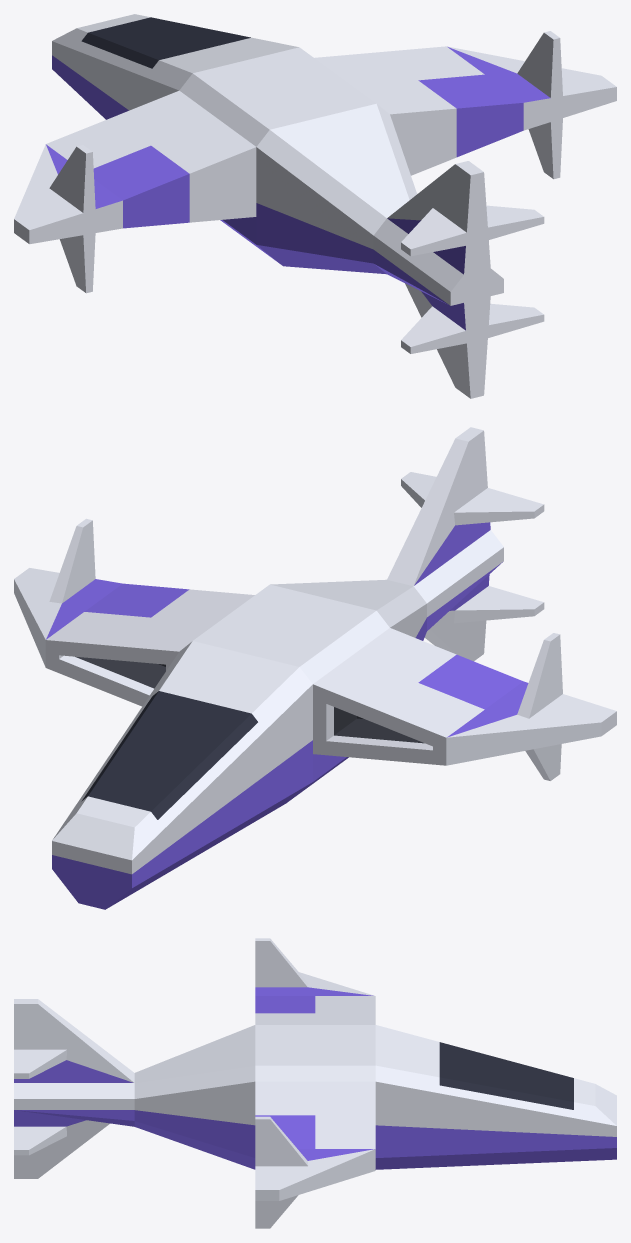
3 views of the same model, one above another, from view 1: azimuth 30°, elevation 25°; view 2: azimuth 150°, elevation 25°; view 3: azimuth 270°, elevation 25° (orthographic). The views are drawn at different scales.
Visible parts, largest first — view 1: rudder_sides (×4), engine_flatEdge (×2), hull_tail, hull_cockpitPoint, hull_body, hull_tailEdge; view 2: hull_cockpitPoint, engine_flatEdge (×2), rudder_sides (×4), hull_body, hull_tail, hull_tailEdge; view 3: hull_cockpitPoint, rudder_sides (×4), hull_tail, engine_flatEdge (×2), hull_body, hull_tailEdge.
Boxes of the visible parts, x1=… form: rudder_sides (×4): x1=14, y1=31, x2=616, y2=398; engine_flatEdge (×2): x1=46, y1=46, x2=523, y2=228; hull_tail: x1=256, y1=103, x2=416, y2=274; hull_cockpitPoint: x1=52, y1=14, x2=298, y2=119; hull_body: x1=179, y1=47, x2=375, y2=264; hull_tailEdge: x1=373, y1=218, x2=503, y2=305; hull_cockpitPoint: x1=52, y1=641, x2=312, y2=909; engine_flatEdge (×2): x1=45, y1=583, x2=522, y2=765; rudder_sides (×4): x1=14, y1=427, x2=616, y2=780; hull_body: x1=193, y1=584, x2=389, y2=800; hull_tail: x1=270, y1=579, x2=426, y2=640; hull_tailEdge: x1=413, y1=530, x2=503, y2=630; hull_cockpitPoint: x1=375, y1=1025, x2=616, y2=1169; rudder_sides (×4): x1=14, y1=938, x2=375, y2=1228; hull_tail: x1=134, y1=1025, x2=255, y2=1169; engine_flatEdge (×2): x1=255, y1=996, x2=375, y2=1148; hull_body: x1=255, y1=1025, x2=375, y2=1081; hull_tailEdge: x1=14, y1=1083, x2=134, y2=1126.
Size of the model in its own units: 4.4 by 1.6 by 5.
